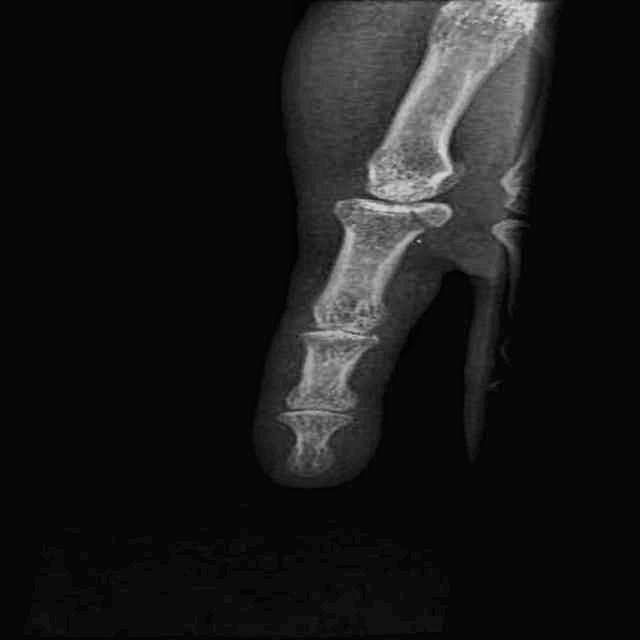Greenstick: (357, 176, 476, 246)
